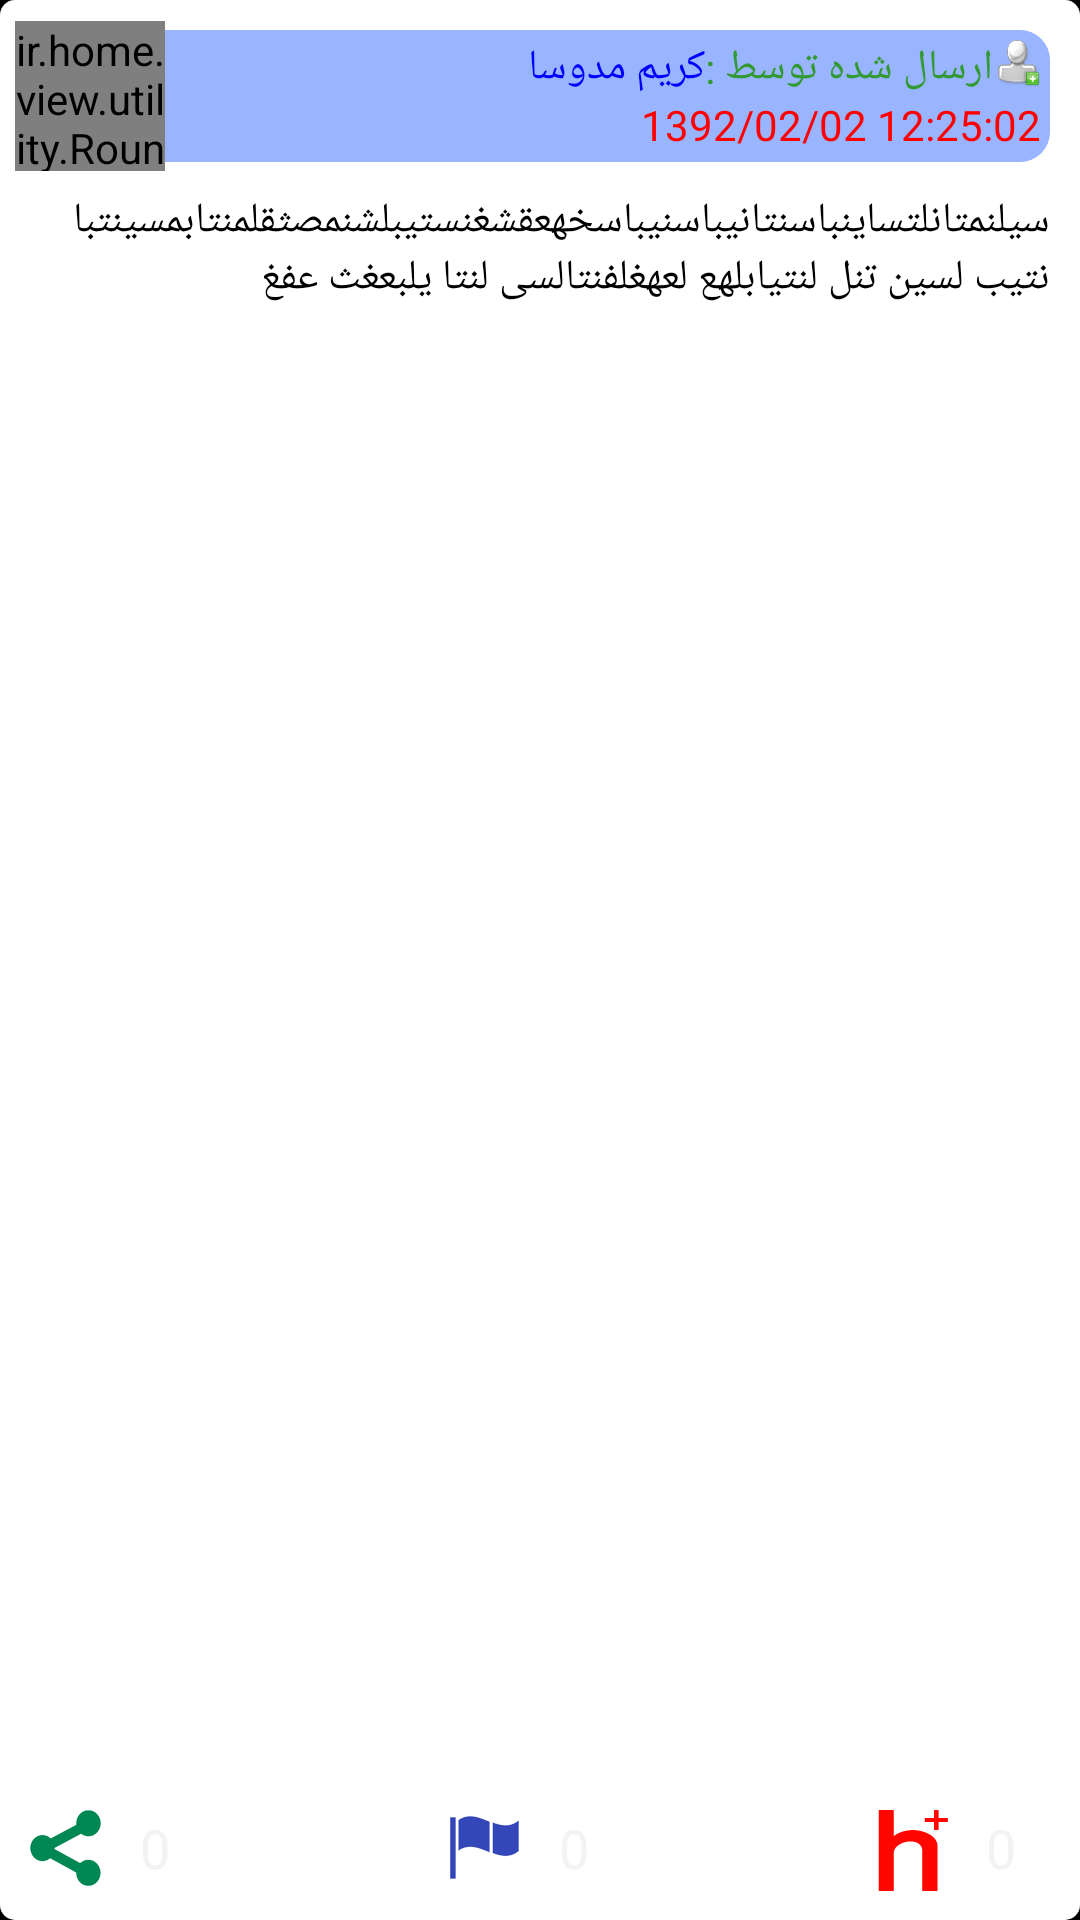

Icon bounding boxes for this 1080 x 1920 phone screenshot, format bbox(x1, y1, x2, y2):
add friend: bbox(998, 40, 1039, 86)
